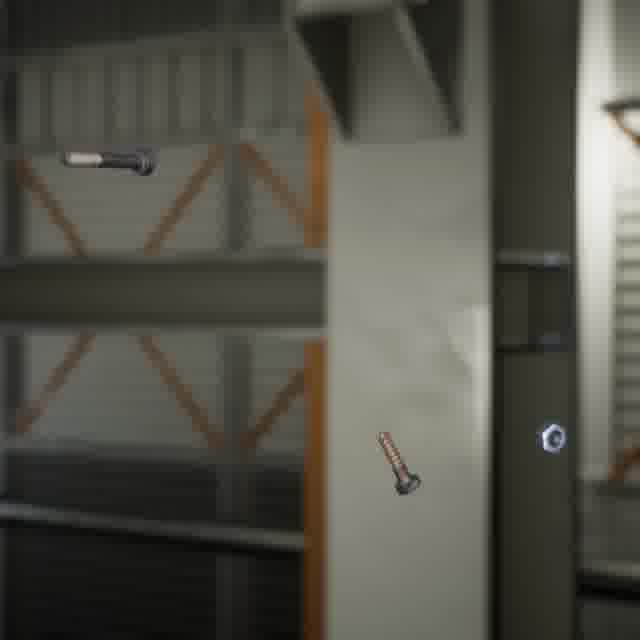bolt: (373, 426, 425, 499), (57, 143, 159, 180)
nut: (531, 416, 571, 458)
